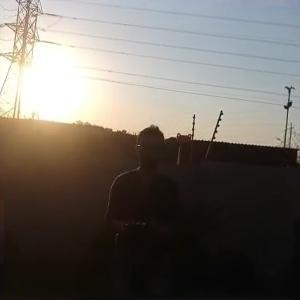follow: (100, 119, 186, 298)
